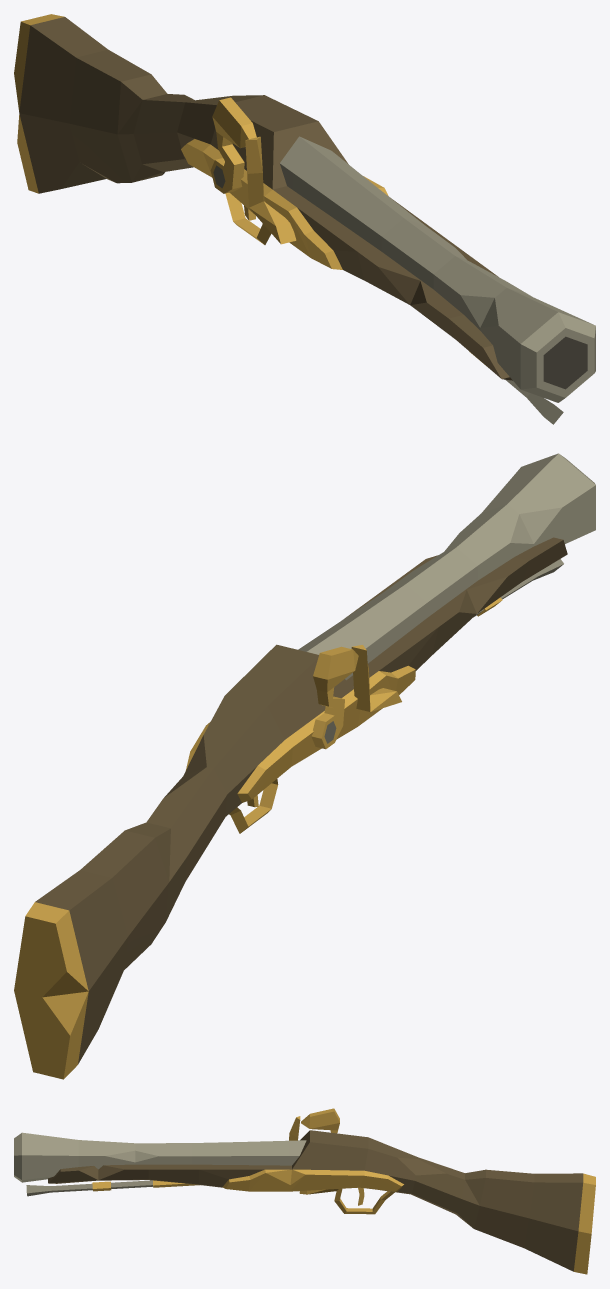
The model's file is Musketon_1.fbx.
3 views of the same model, one above another, from view 1: azimuth 30°, elevation 25°; view 2: azimuth 150°, elevation 25°; view 3: azimuth 270°, elevation 25° (orthographic). The views are drawn at different scales.
Parts seen in each view (by area): view 1: Musketon_1; view 2: Musketon_1; view 3: Musketon_1.
Part boxes in pixels (<box>): Musketon_1: <box>14,14,595,424</box>; Musketon_1: <box>14,453,595,1079</box>; Musketon_1: <box>14,1108,595,1274</box>.
Size of the model in its own units: 12.06 by 28.63 by 102.
